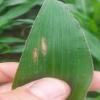Corn leaf blight: (21, 1, 94, 80)
